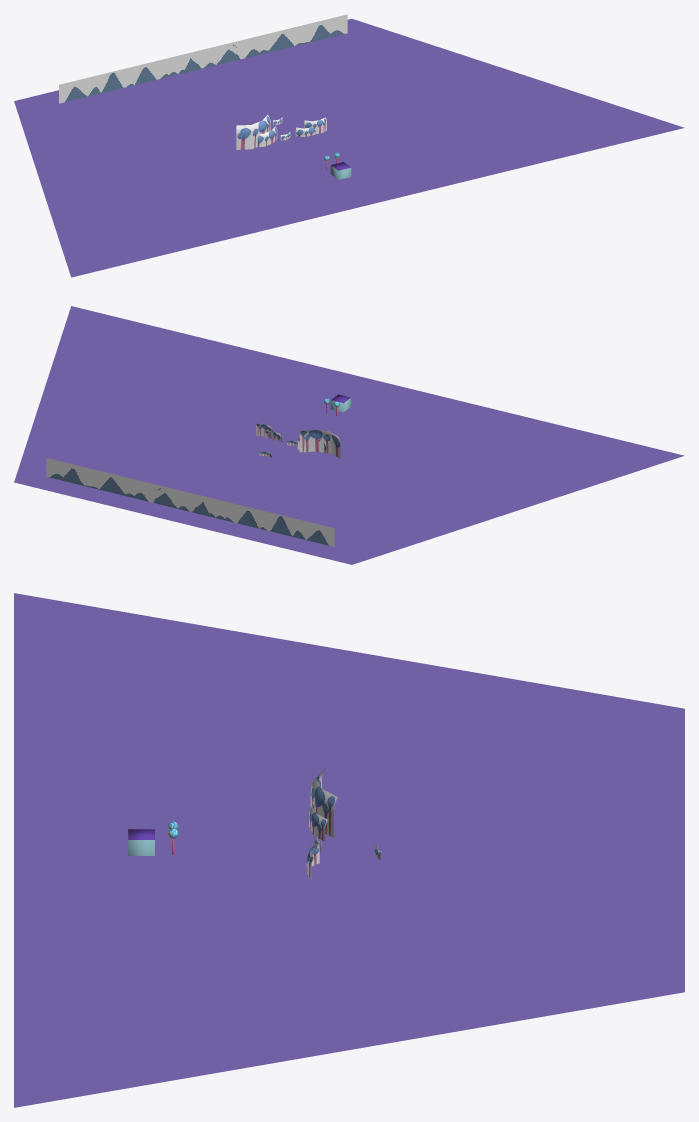
The model's file is amserForestt.glb.
3 views of the same model, one above another, from view 1: azimuth 30°, elevation 25°; view 2: azimuth 150°, elevation 25°; view 3: azimuth 270°, elevation 25° (orthographic). The views are drawn at different scales.
Visible parts, largest first — view 1: Cube; view 2: Cube; view 3: Cube.
Part boxes in pixels (x1=…): Cube: x1=14, y1=14, x2=684, y2=277; Cube: x1=14, y1=306, x2=684, y2=564; Cube: x1=14, y1=593, x2=684, y2=1107.
Bounding box in the file's own units: 1189 × 78.58 × 655.
3 materials, 3 textured.
